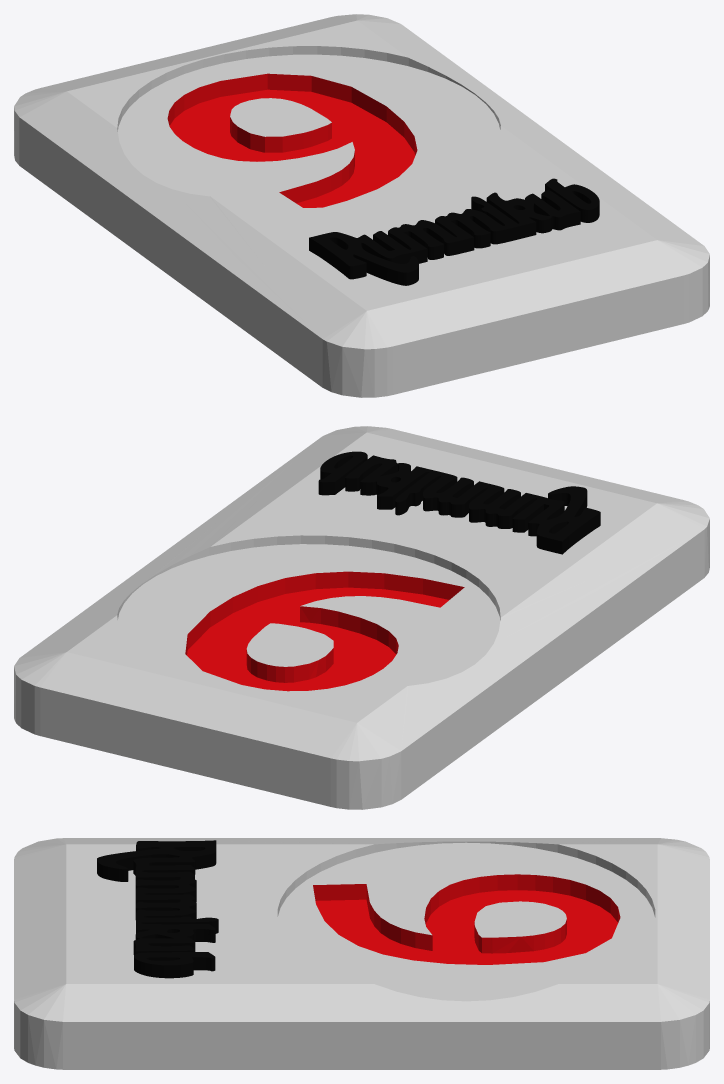
The picture shows the model from 3 angles, top to bottom: view 1: azimuth 30°, elevation 25°; view 2: azimuth 150°, elevation 25°; view 3: azimuth 270°, elevation 25°; orthographic projection.
Parts seen in each view (by area): view 1: Rummikub 9 Fixed, Rummikub 1 Fixed.001; view 2: Rummikub 9 Fixed, Rummikub 1 Fixed.001; view 3: Rummikub 9 Fixed, Rummikub 1 Fixed.001.
Boxes of the visible parts, box(x1,y1,x2,y2) form: Rummikub 9 Fixed: box(14, 14, 709, 397); Rummikub 1 Fixed.001: box(309, 178, 599, 285); Rummikub 9 Fixed: box(14, 426, 709, 809); Rummikub 1 Fixed.001: box(318, 451, 600, 554); Rummikub 9 Fixed: box(14, 838, 709, 1069); Rummikub 1 Fixed.001: box(97, 840, 218, 978).
Bounding box in the file's own units: 2499 × 486 × 4000.
